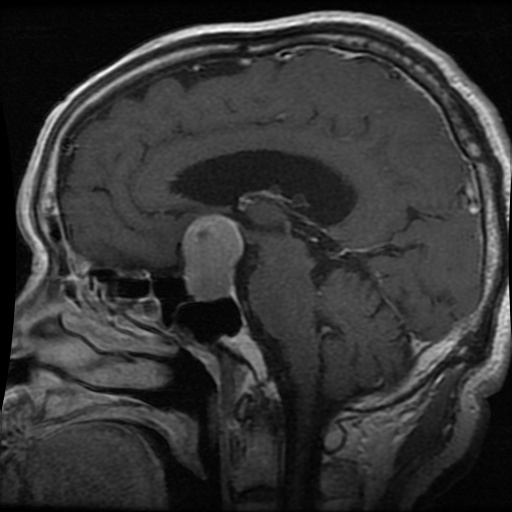pituitary: (182, 214, 244, 301)
